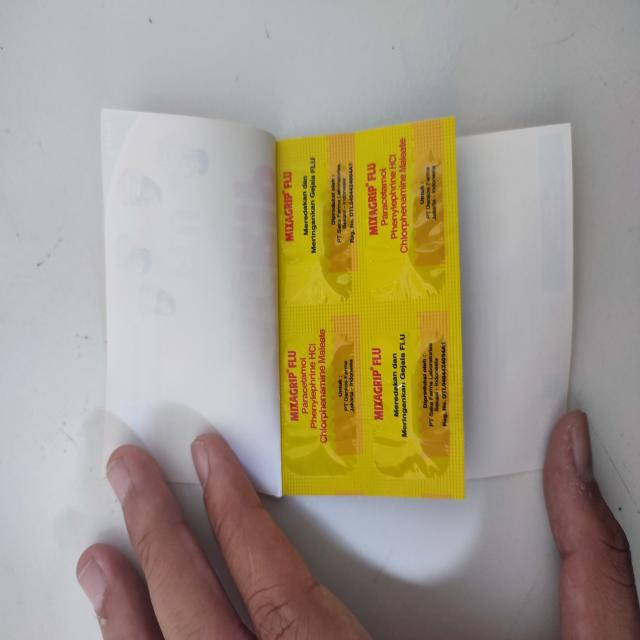B3: (98, 107, 573, 498)
